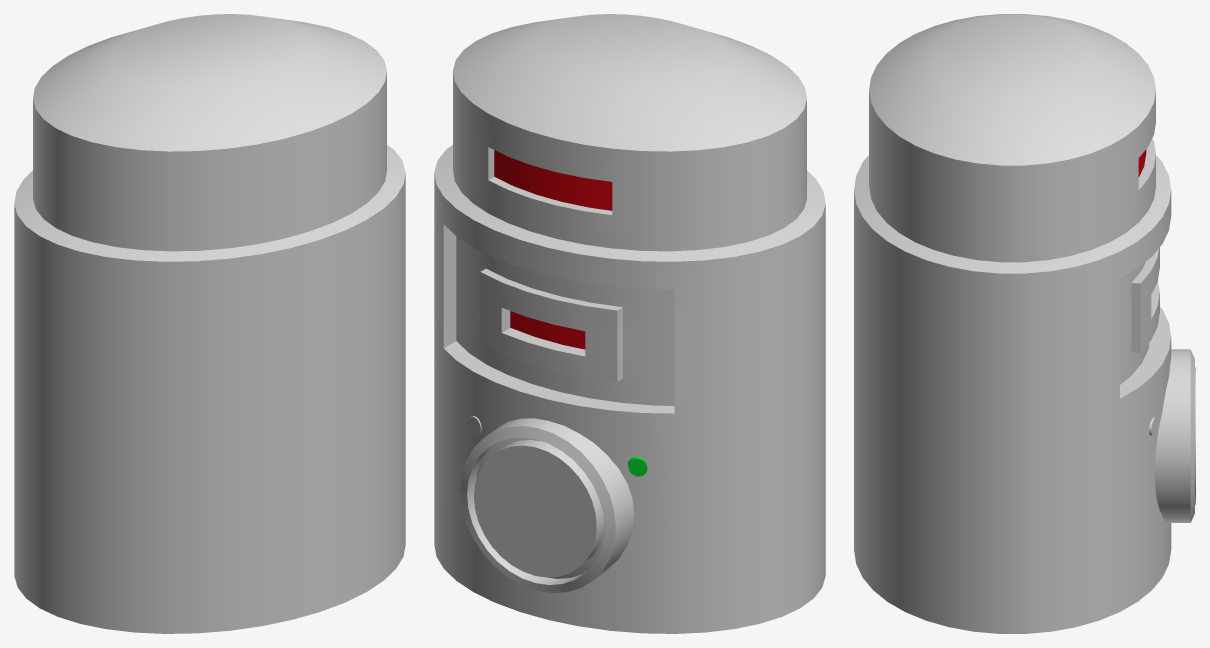
The model's file is SensorMovimiento1.fbx.
3 views of the same model, side by side, from view 1: azimuth 30°, elevation 25°; view 2: azimuth 150°, elevation 25°; view 3: azimuth 270°, elevation 25° (orthographic). The views are drawn at different scales.
Visible parts, largest first — view 1: sensormovimiento; view 2: sensormovimiento; view 3: sensormovimiento.
Boxes of the visible parts, box(x1,y1,x2,y2) form: sensormovimiento: box(14, 14, 405, 633); sensormovimiento: box(434, 14, 825, 633); sensormovimiento: box(854, 14, 1195, 633).
Bounding box in the file's own units: 102 × 140 × 88.41.
